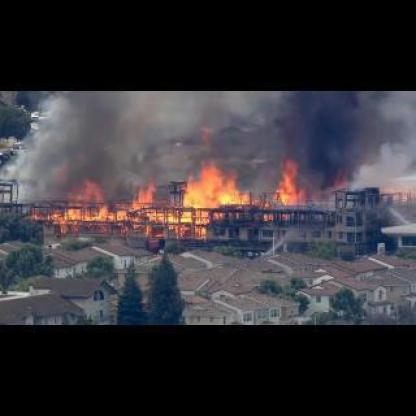fire: (35, 156, 311, 234)
